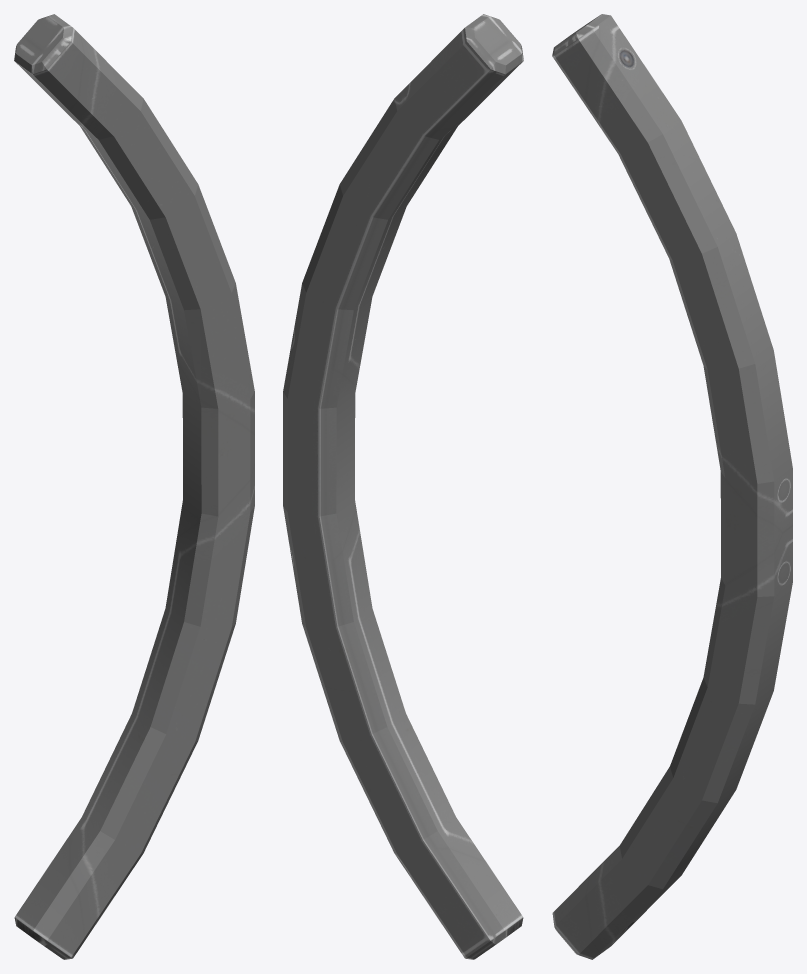
File: SM_PillarS01cc2.fbx
3 renders of one model, left to right at view 1: azimuth 30°, elevation 25°; view 2: azimuth 150°, elevation 25°; view 3: azimuth 330°, elevation 25°, orthographic.
Visible parts, largest first — view 1: SM_PillarS01cc2_LOD0; view 2: SM_PillarS01cc2_LOD0; view 3: SM_PillarS01cc2_LOD0.
Boxes of the visible parts, bbox=[...] form: SM_PillarS01cc2_LOD0: bbox=[14, 14, 254, 959]; SM_PillarS01cc2_LOD0: bbox=[283, 14, 523, 959]; SM_PillarS01cc2_LOD0: bbox=[552, 14, 792, 959].
Bounding box in the file's own units: 82.89 × 20 × 332.
